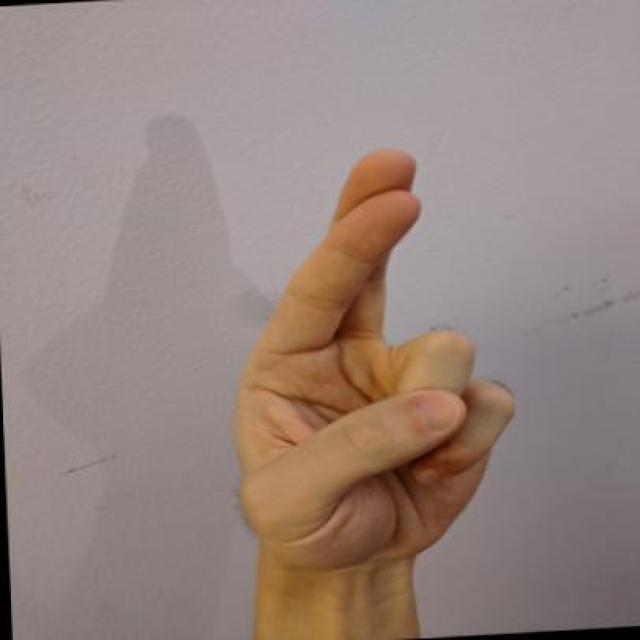R: (211, 146, 529, 640)
